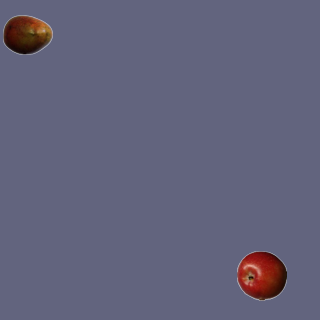Apple Braeburn: (236, 250, 286, 300)
Mango Red: (2, 9, 52, 59)
